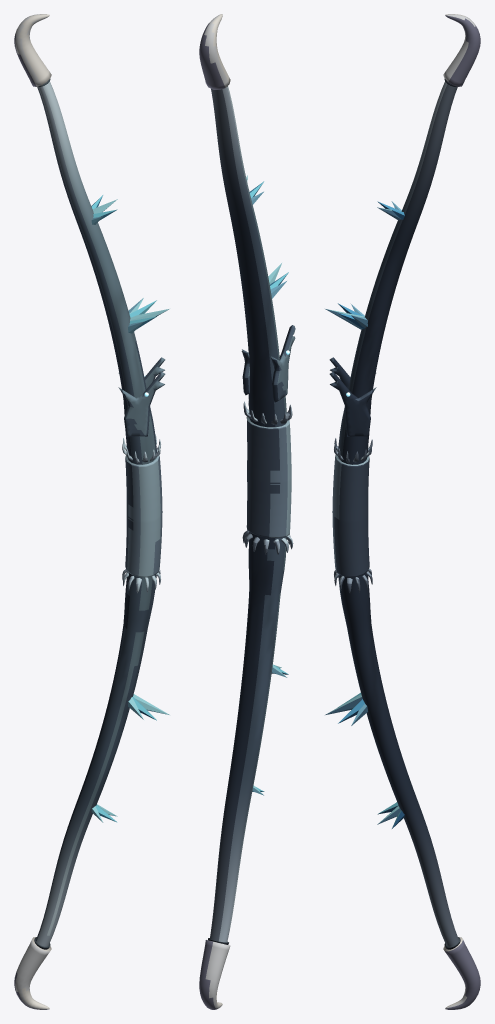
File: bw_frostfang_bow.glb
3 renders of one model, left to right at view 1: azimuth 90°, elevation 25°; view 2: azimuth 150°, elevation 25°; view 3: azimuth 270°, elevation 25°, orthographic.
Visible parts, largest first — view 1: Weapon; view 2: Weapon; view 3: Weapon.
Boxes of the visible parts, x1,y1,x2,y2 form: Weapon: (14,14,169,1009); Weapon: (199,14,295,1009); Weapon: (325,14,480,1009).
Bounding box in the file's own units: 0.059 × 1.25 × 0.1783.
